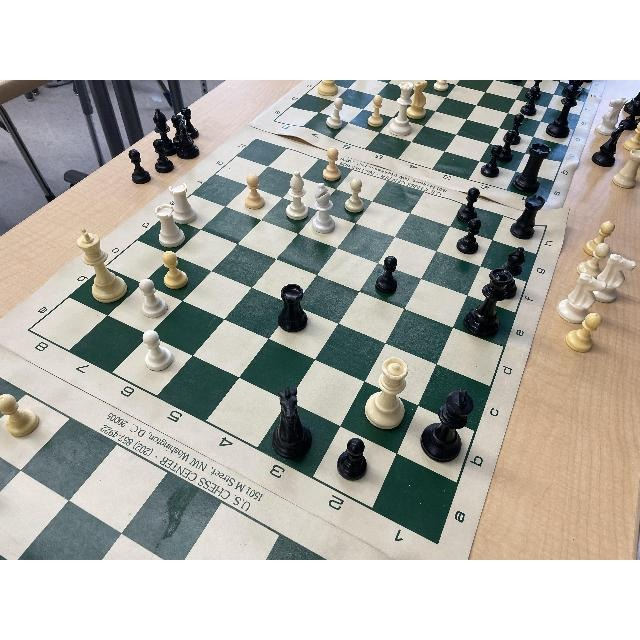black-bishop: (493, 244, 527, 301)
black-king: (420, 389, 476, 460), (545, 80, 580, 138)
black-knight: (267, 386, 315, 461)
black-pawn: (336, 436, 368, 482), (373, 255, 400, 297), (457, 184, 480, 225), (456, 219, 482, 255), (495, 129, 519, 164), (480, 143, 503, 178), (521, 86, 541, 117), (504, 116, 524, 144), (527, 80, 544, 100)
black-queen: (461, 267, 514, 347)
black-rook: (510, 143, 553, 191), (511, 195, 547, 241), (276, 283, 309, 331)
white-bishop: (312, 182, 337, 234), (285, 167, 309, 220)
white-king: (77, 226, 129, 305), (317, 80, 339, 97)
white-knight: (410, 80, 430, 119)
white-pawn: (140, 329, 173, 372), (137, 277, 168, 318), (161, 251, 189, 291), (244, 174, 266, 210), (345, 179, 365, 215), (323, 146, 343, 181), (327, 99, 345, 131), (369, 94, 385, 127), (431, 80, 450, 93)
white-queen: (366, 357, 410, 437), (390, 83, 416, 137)
white-rook: (153, 205, 186, 247), (166, 183, 198, 225)
